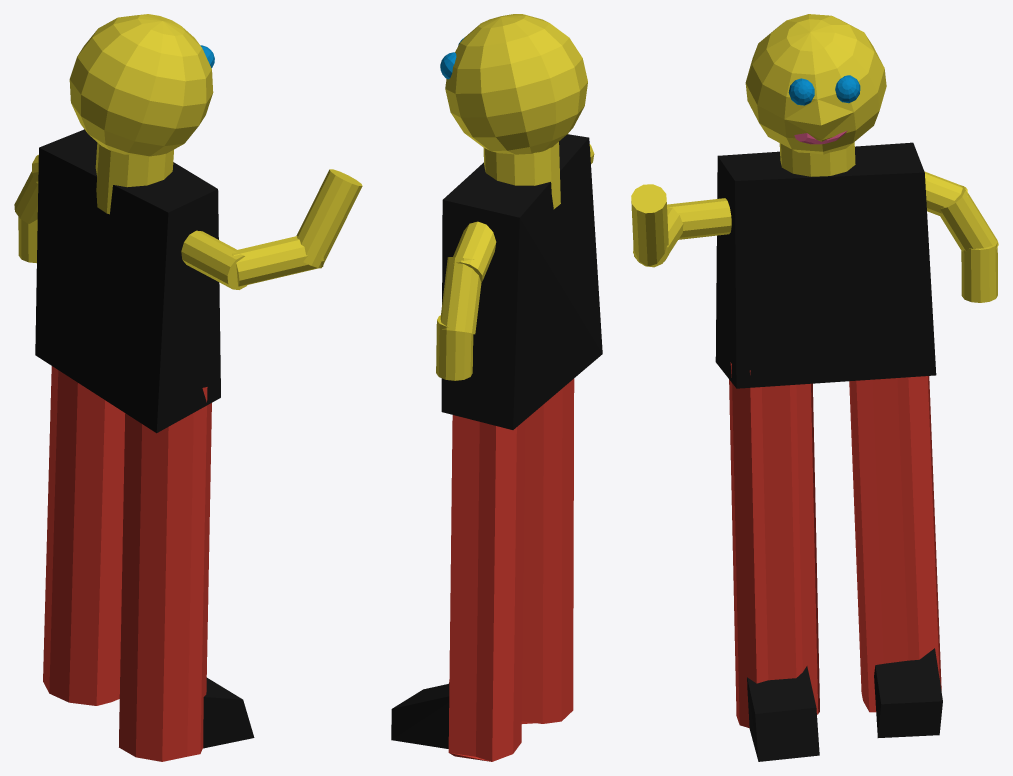
3 renders of one model, left to right at view 1: azimuth 30°, elevation 25°; view 2: azimuth 150°, elevation 25°; view 3: azimuth 270°, elevation 25°, orthographic. The views are drawn at different scales.
Parts seen in each view (by area): view 1: node_MeshObject-421278656-PolyPaper23; view 2: node_MeshObject-421278656-PolyPaper23; view 3: node_MeshObject-421278656-PolyPaper23.
Boxes of the visible parts, x1,y1,x2,y2 form: node_MeshObject-421278656-PolyPaper23: (14, 14, 362, 761); node_MeshObject-421278656-PolyPaper23: (391, 14, 602, 761); node_MeshObject-421278656-PolyPaper23: (631, 14, 998, 761).
Size of the model in its own units: 0.6063 by 2.13 by 1.01.
